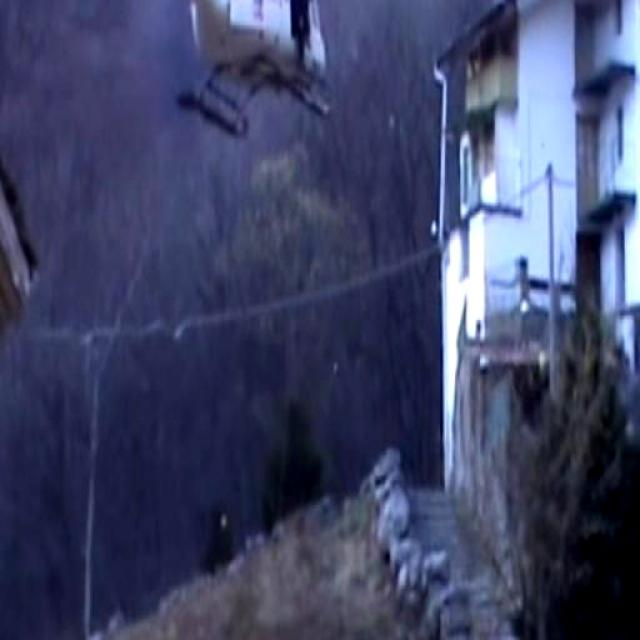drone: (82, 0, 335, 135)
